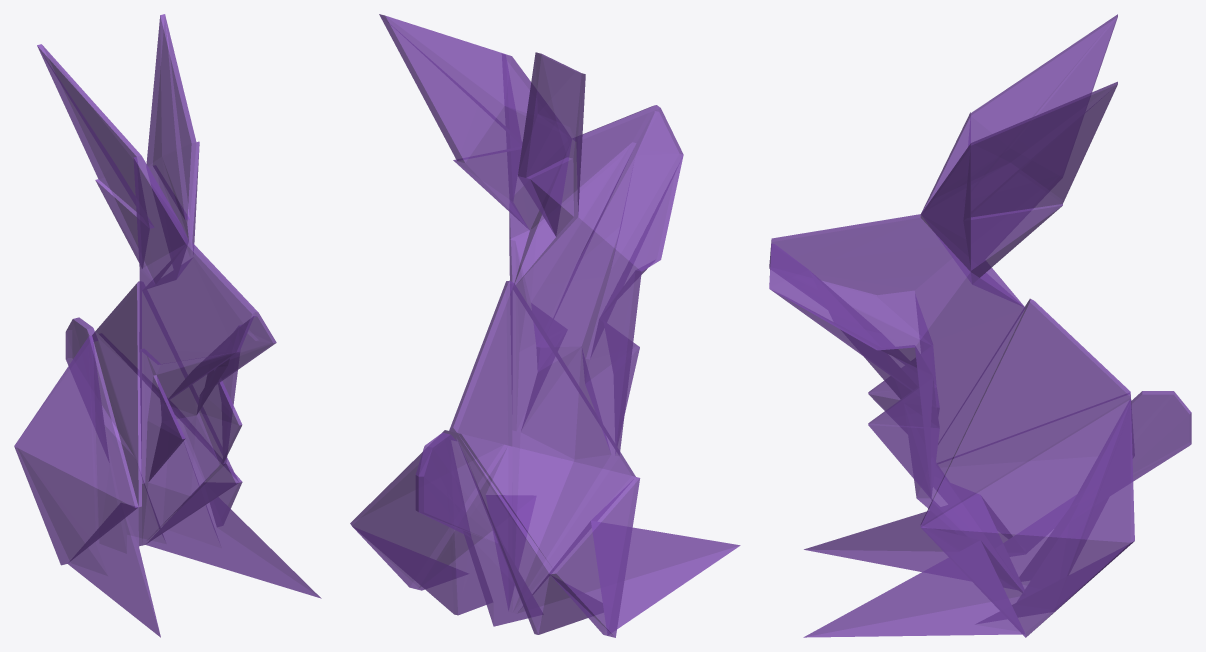
File: rabbit4.glb
3 renders of one model, left to right at view 1: azimuth 30°, elevation 25°; view 2: azimuth 150°, elevation 25°; view 3: azimuth 270°, elevation 25°, orthographic. The views are drawn at different scales.
Parts seen in each view (by area): view 1: origamix_rabbit; view 2: origamix_rabbit; view 3: origamix_rabbit.
Part boxes in pixels (left/top/right/bottom): origamix_rabbit: left=14, top=14, right=321, bottom=637; origamix_rabbit: left=350, top=14, right=740, bottom=637; origamix_rabbit: left=769, top=14, right=1191, bottom=637.
Size of the model in its own units: 1.8 by 5.15 by 3.62.
